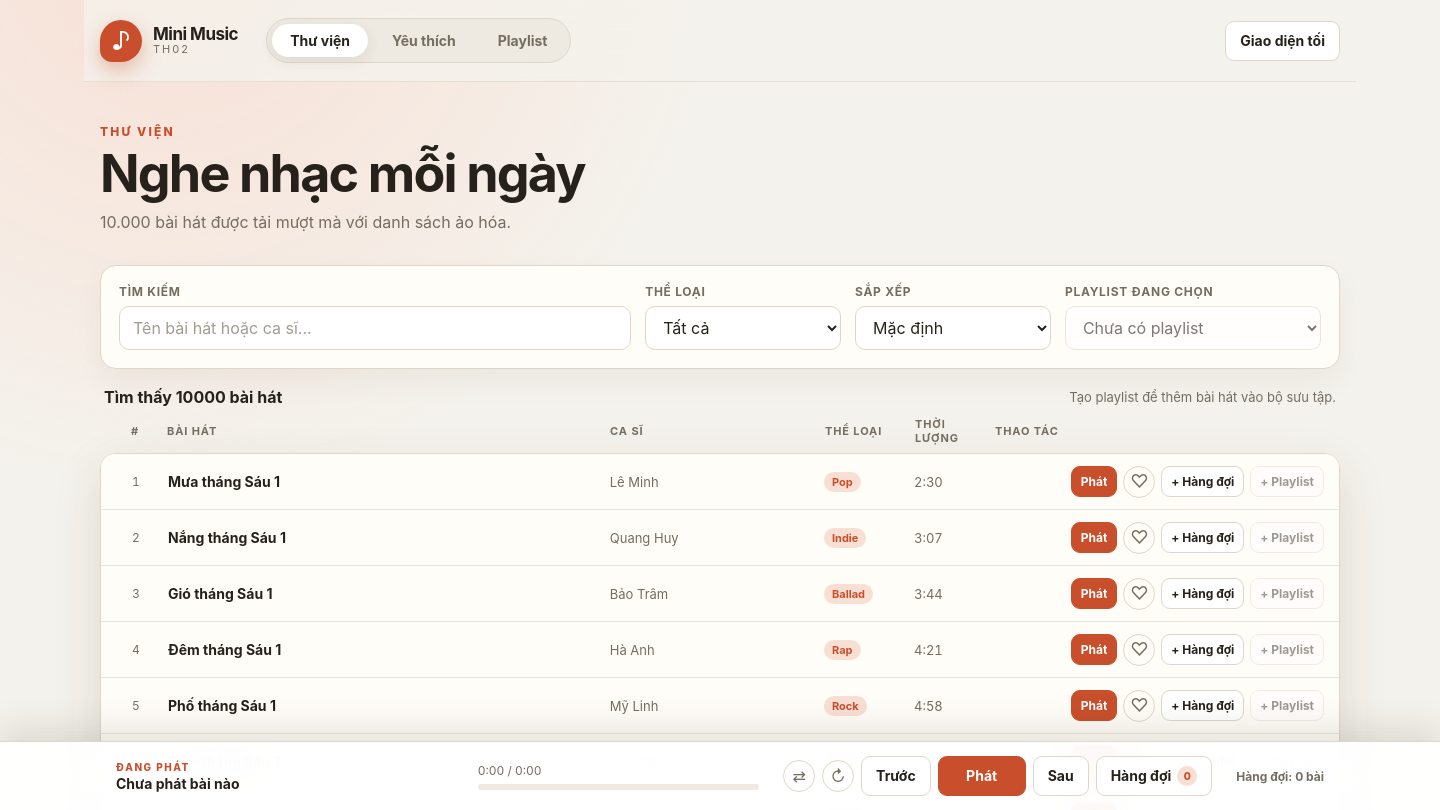
Scenario: App › điều hướng tới trang playlist được tải lazy
Click the link "Playlist". click: coordinates (523, 40)
box: [498, 32, 548, 49]
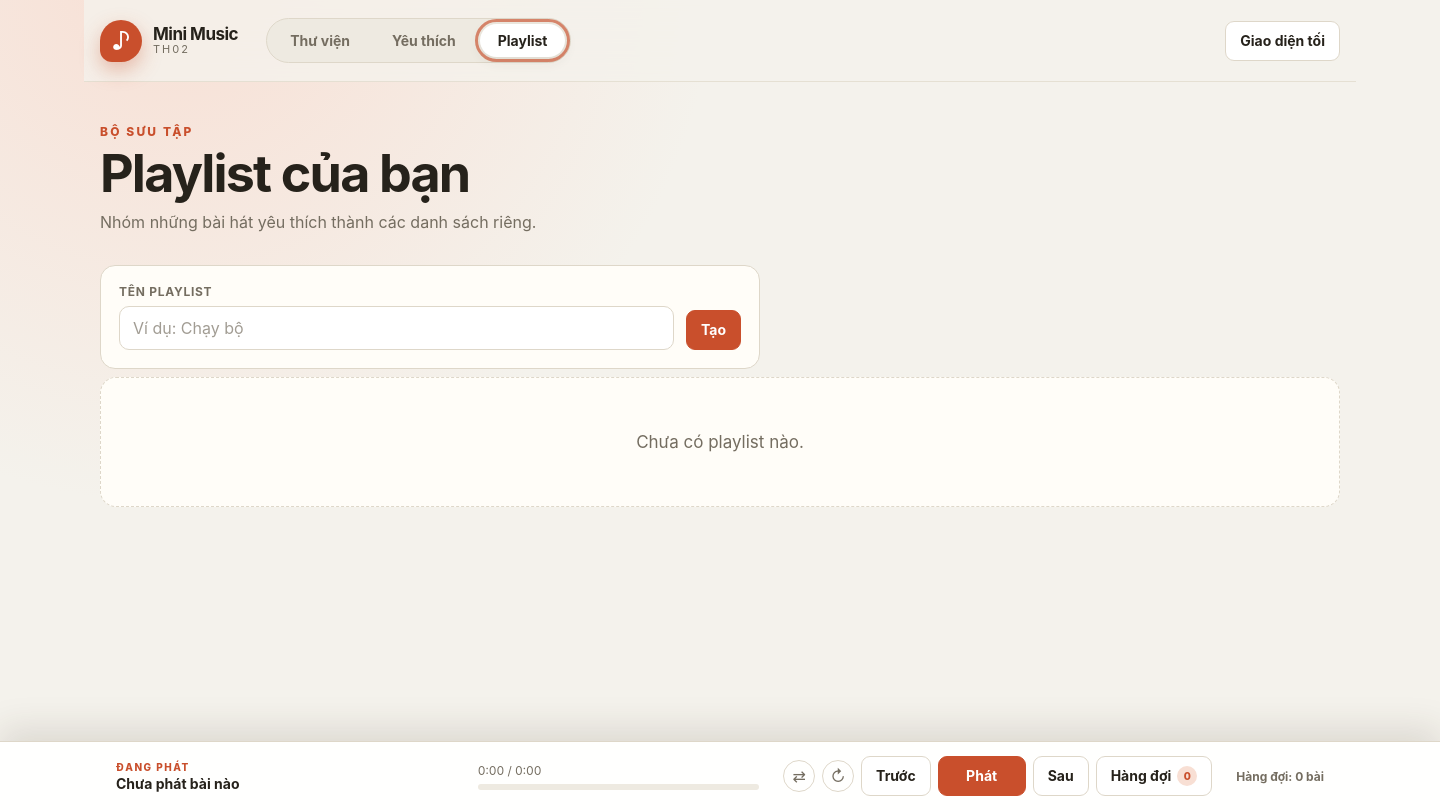
Check: the heading "Playlist của bạn" is shown, box [100, 142, 469, 205]
